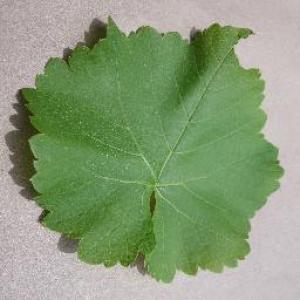Folha: (18, 14, 284, 284)
